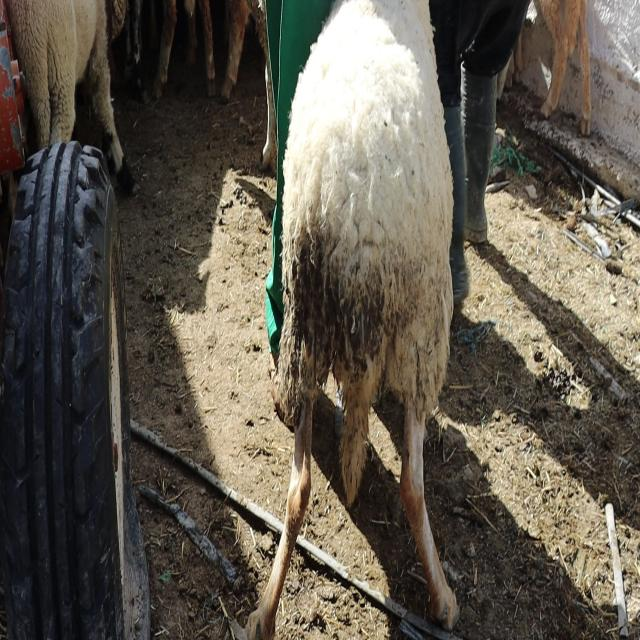Score_5: (231, 0, 458, 639)
